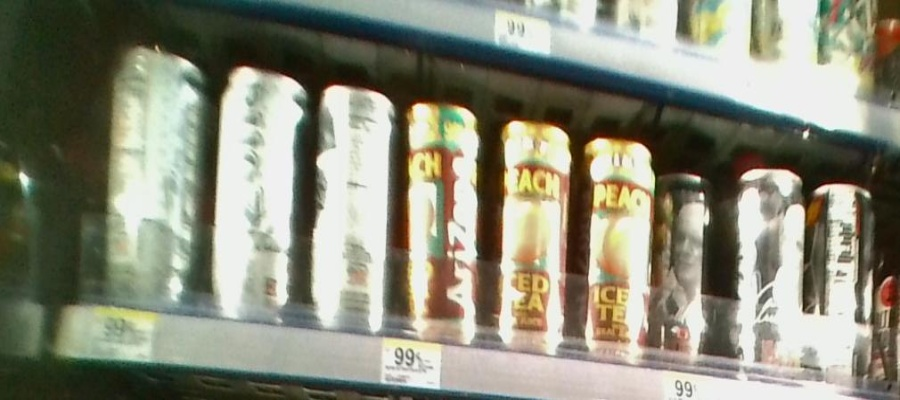bottle: (102, 42, 207, 308), (215, 61, 307, 327), (399, 84, 489, 353), (312, 70, 394, 338), (492, 109, 575, 351), (577, 121, 654, 354), (729, 156, 807, 372), (808, 172, 880, 385), (659, 157, 714, 364)
